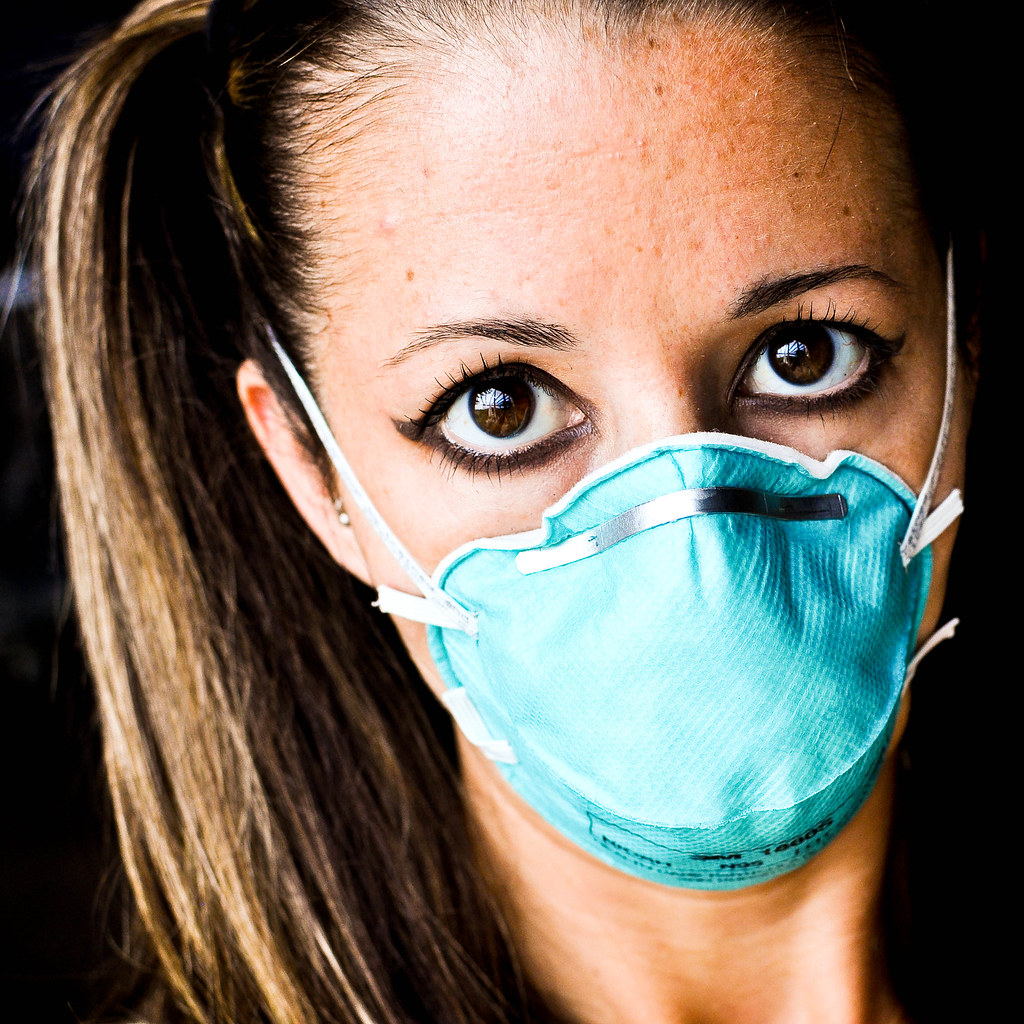n95: (389, 430, 969, 900)
